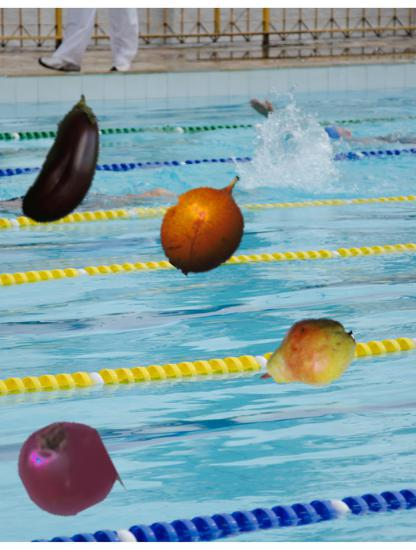Eggplant: (0, 96, 139, 235)
Granadilla: (153, 168, 263, 278)
Pear: (255, 304, 357, 406)
Redcurrant: (17, 420, 114, 517)
